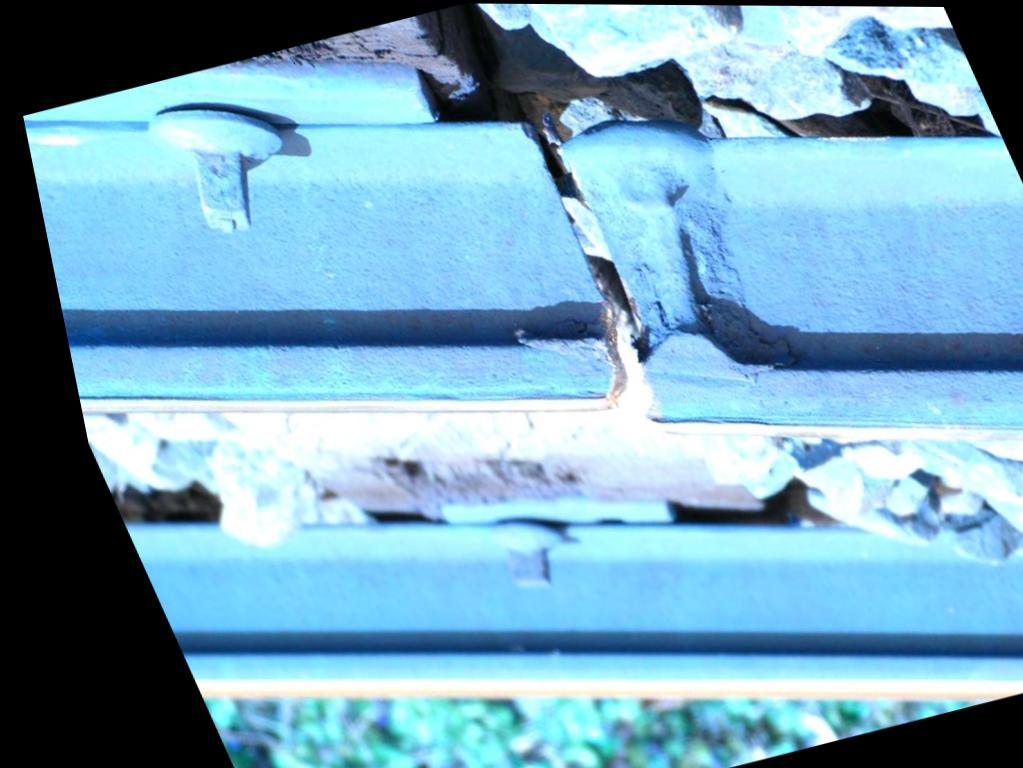person: (319, 37, 880, 541)
